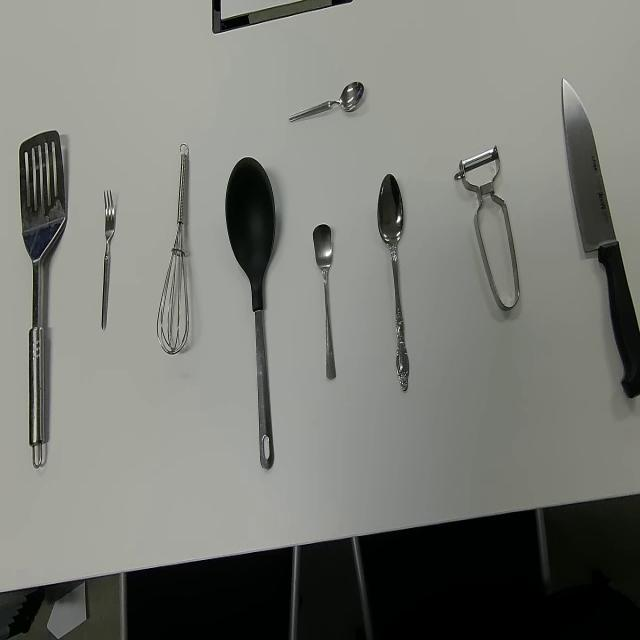Desert-Spoon: (377, 173, 411, 394)
Dinner-Fork: (100, 189, 116, 332)
Kitchen-Knife: (561, 75, 640, 401)
Peeler: (452, 143, 520, 313)
Serving-Spoon: (18, 128, 67, 469), (224, 154, 276, 470)
Tea-Spoon: (312, 223, 336, 382), (288, 78, 365, 123)
Whisk: (156, 141, 189, 354)
